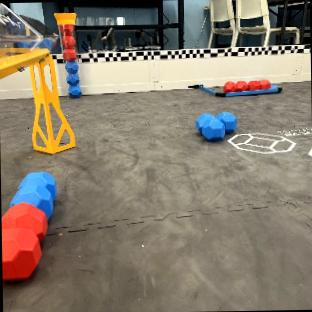Goal: (0, 5, 75, 153)
Parking-R: (190, 85, 282, 96)
V5_BLUE: (10, 172, 55, 216), (196, 112, 236, 139)
V5_RED: (1, 203, 46, 279), (55, 13, 80, 94), (223, 79, 270, 93), (62, 25, 76, 60)
